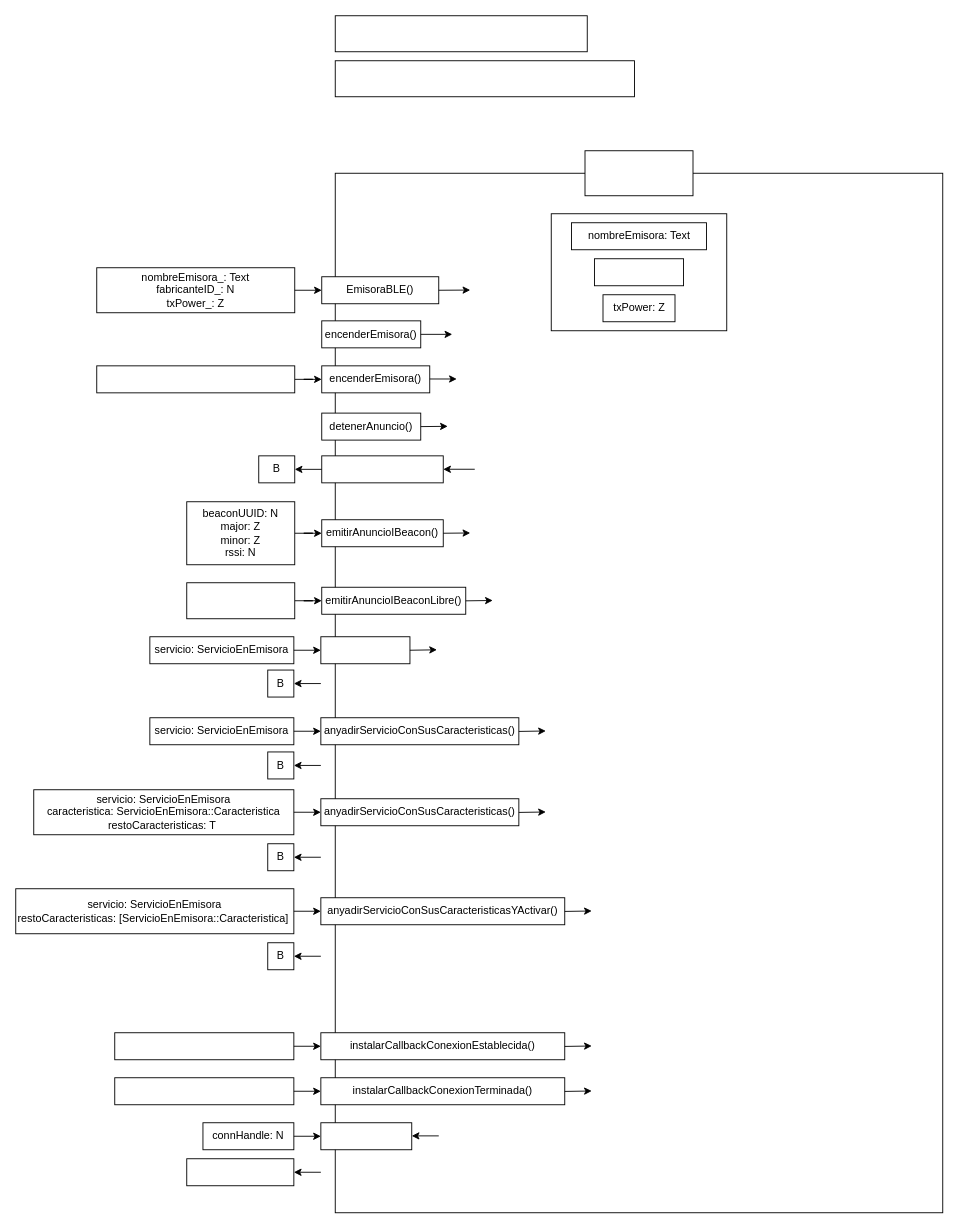
This 959x1229 diagram has some shape labels left out. Each missing label, with the box of its shape:
anyadirServicio(): (320, 636, 410, 664)
BLEConnection: (186, 1158, 294, 1186)
CallbackConexionEstablecida = (conn_handle: N): (334, 15, 587, 52)
CallbackConexionTerminada = (conn_handle: N, reason: N): (334, 60, 634, 97)
carga: Text tamanyoCarga: N: (186, 582, 295, 619)
cb: CallbackConexionEstablecida: (114, 1032, 294, 1060)
cb: CallbackConexionTerminada: (114, 1077, 294, 1105)
cbce: CallbackConexionEstablecida cbct: CallbackConexionTerminada: (96, 365, 295, 393)
EmisoraBLE: (584, 150, 693, 196)
estaAnunciando(): (321, 455, 443, 483)
fabricanteID: N: (594, 258, 684, 286)
getConexion(): (320, 1122, 412, 1150)
